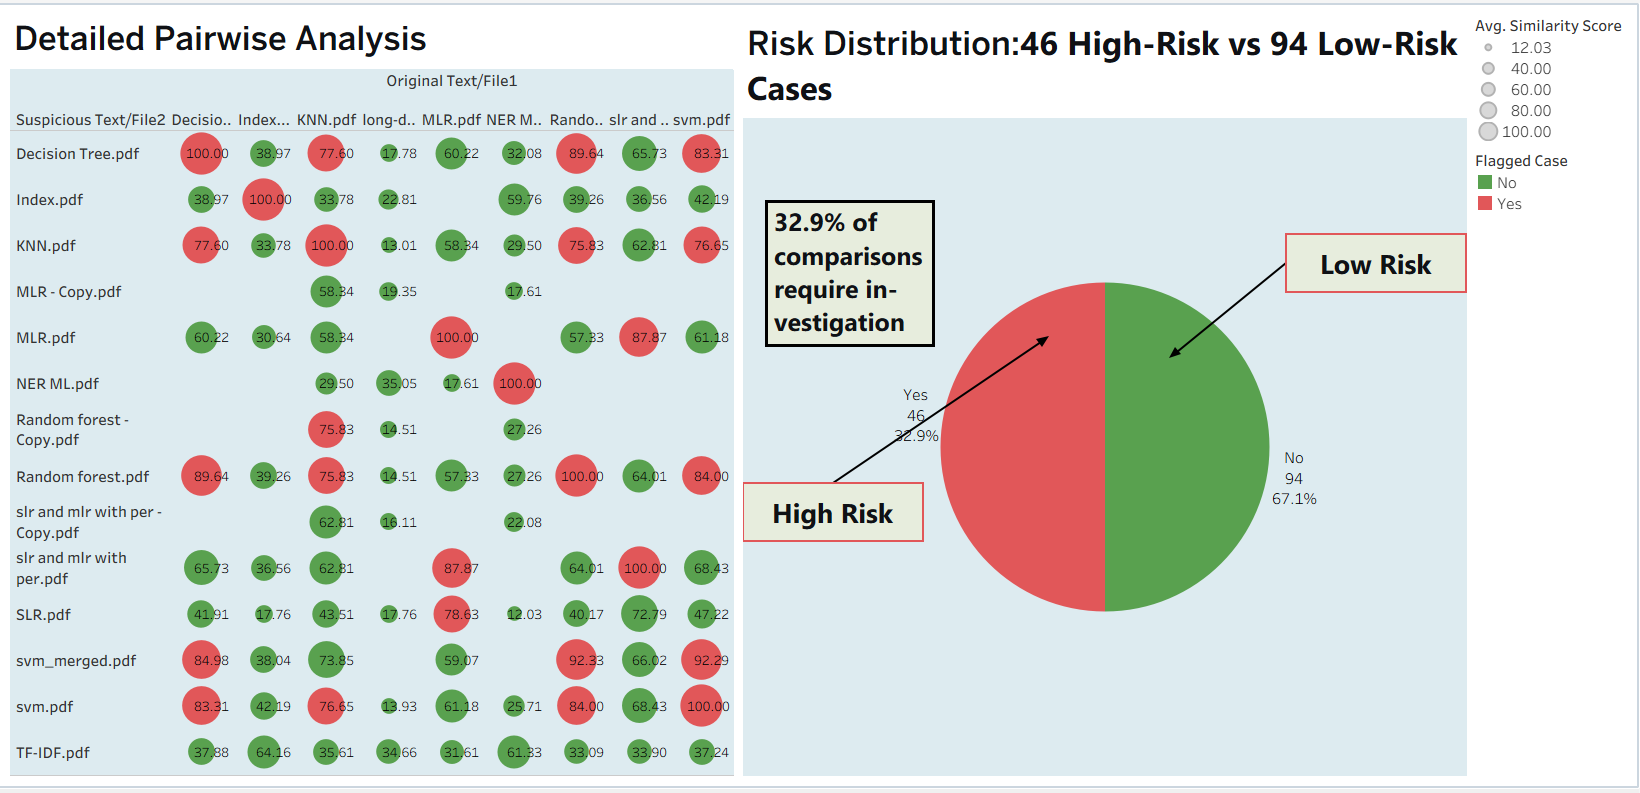

This screenshot's page, from the dashboard's own definition file:
{"tool":"tableau","page":{"name":"Dashboard 2","canvas":[1000,1000],"units":"permille","ordinal":1},"visuals":[{"type":"worksheet","title":"Scatter Plot","mark":"Circle","rows":["Suspicious_Text/File2"],"cols":["Original_Text/File1"],"box":[4.9,10.2,446.4,979.6]},{"type":"worksheet","title":"Pie Chart","mark":"Pie","box":[451.2,10.2,446.4,979.6]},{"type":"legend","title":"Scatter Plot","param":"[federated.0timax117k4e4w1chsrwi0i39l4t].[avg:Similarity_Score:qk]","box":[897.6,10.2,97.5,172]},{"type":"legend","title":"Scatter Plot","param":"[federated.0timax117k4e4w1chsrwi0i39l4t].[none:Calculation_530017445473370112:nk","box":[897.6,182.2,97.5,91.7]}]}

Visuals, with their boxes on the dashboard's canvas, which has no fixed pixel size, in thousandths of its width and height (x1, y1, x2, y2). These are canvas units, not pixel positions in the 1640x793 screenshot, which may show the page scaled, cropped or inside an application window:
"Scatter Plot" worksheet (Circle marks): Rect(5, 10, 451, 990)
"Pie Chart" worksheet (Pie marks): Rect(451, 10, 898, 990)
"Scatter Plot" legend: Rect(898, 10, 995, 182)
"Scatter Plot" legend: Rect(898, 182, 995, 274)
